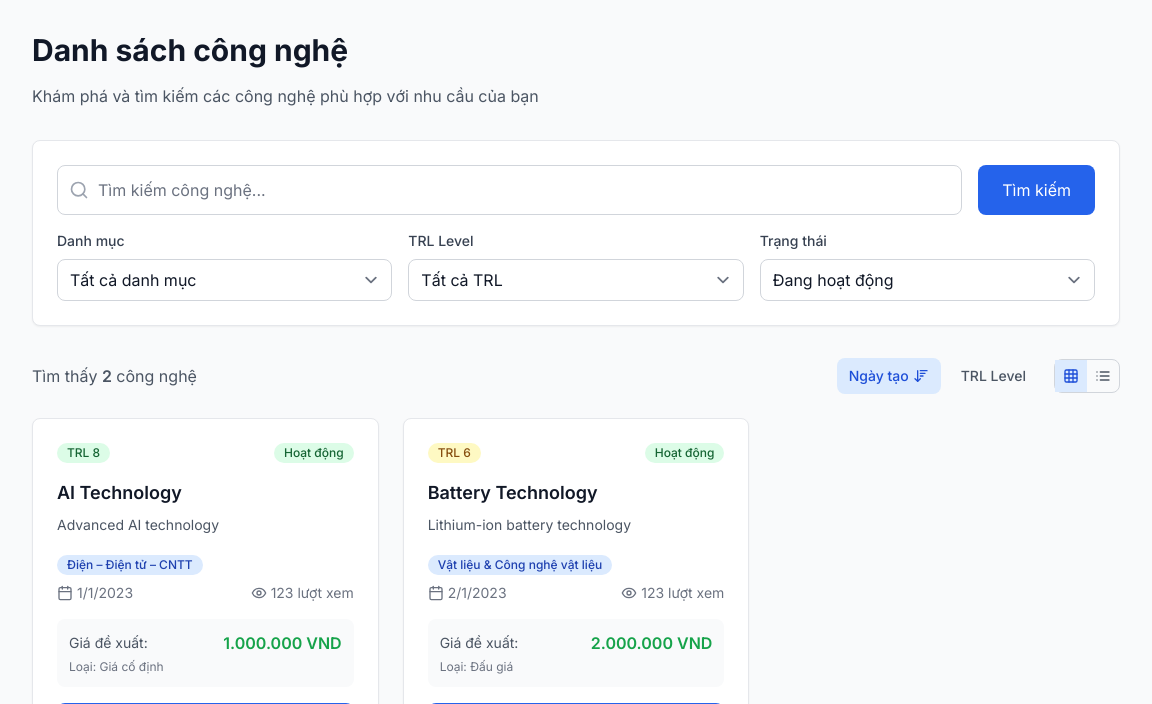
Test case: TechnologiesPage › filters technologies by search query
Type "AI" into the field with placeholder "Tìm kiếm công nghệ..." at (510,190), box 57,165 -> 962,215
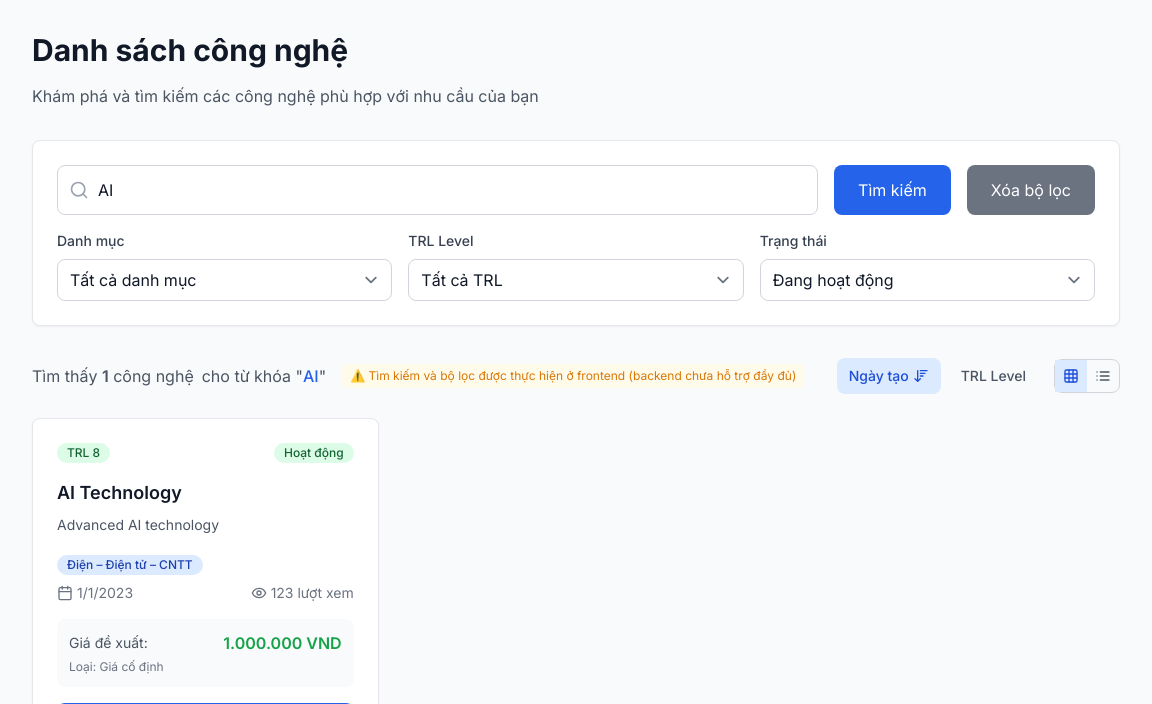
Expected: the heading "AI Technology" is shown, 57,482 -> 182,503
Expected: the heading "Battery Technology" is gone
